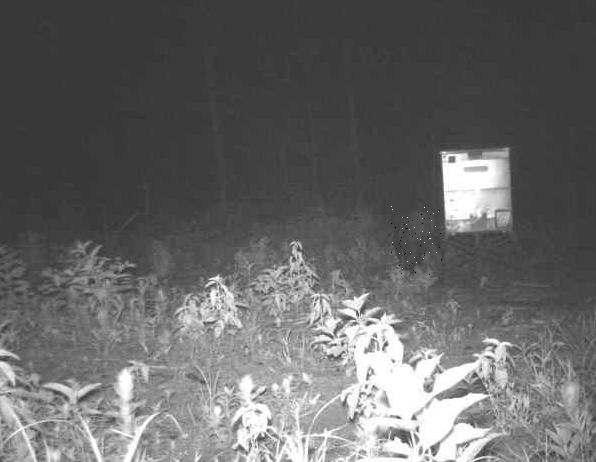Hog: (389, 206, 441, 275)
